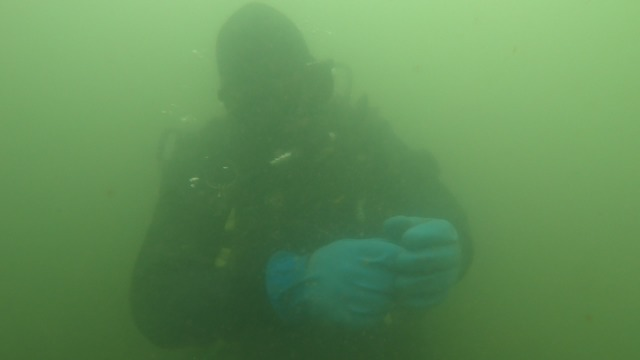Diver: (113, 4, 513, 357)
Hand: (257, 219, 409, 332), (385, 182, 473, 324)
Head: (200, 8, 368, 183)
